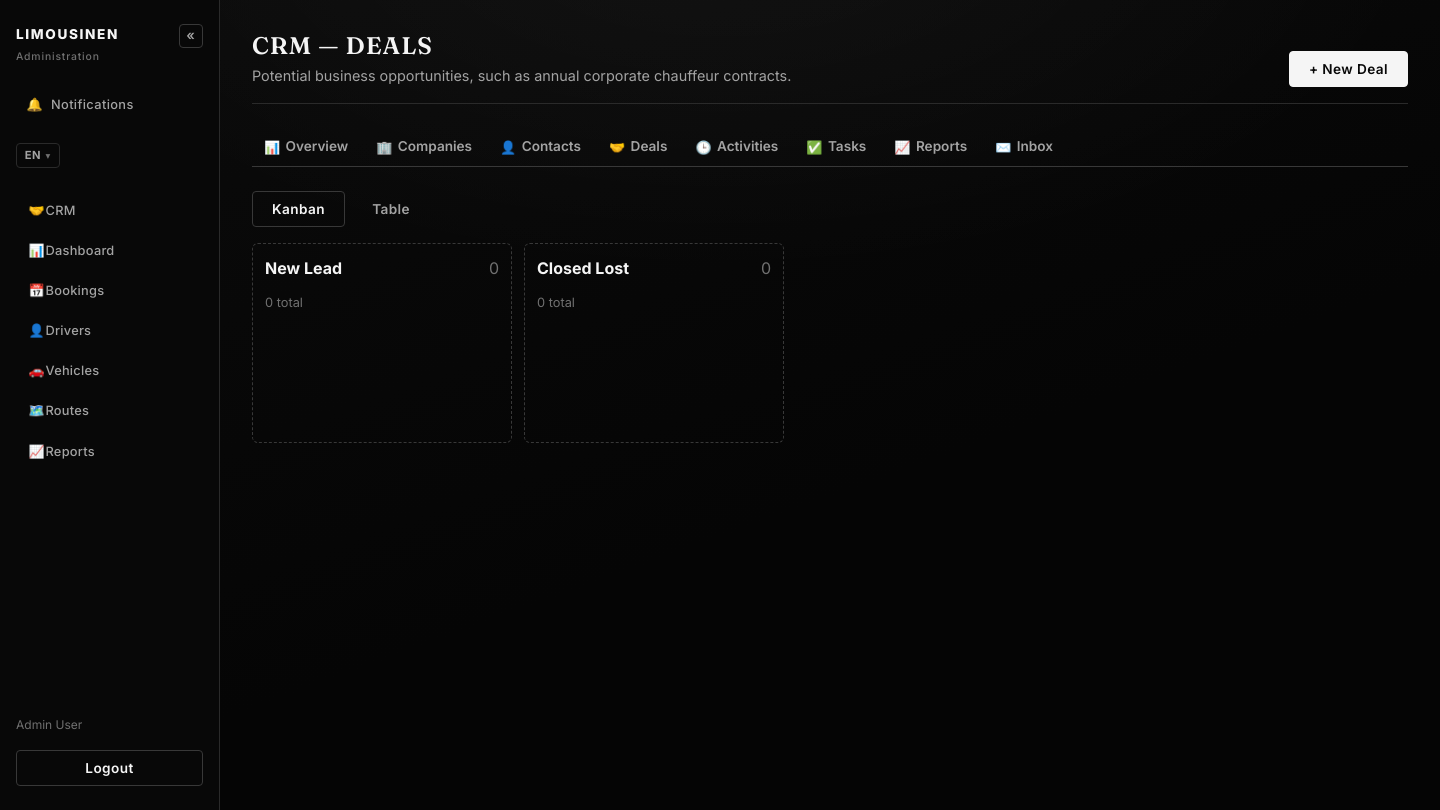
Test: CrmDealsPage › creates a deal
Expected: the text "New Lead" is shown, [265,256,342,281]
Step 1. Click the button "+ New Deal" → (1348, 69), box [1289,52,1408,87]
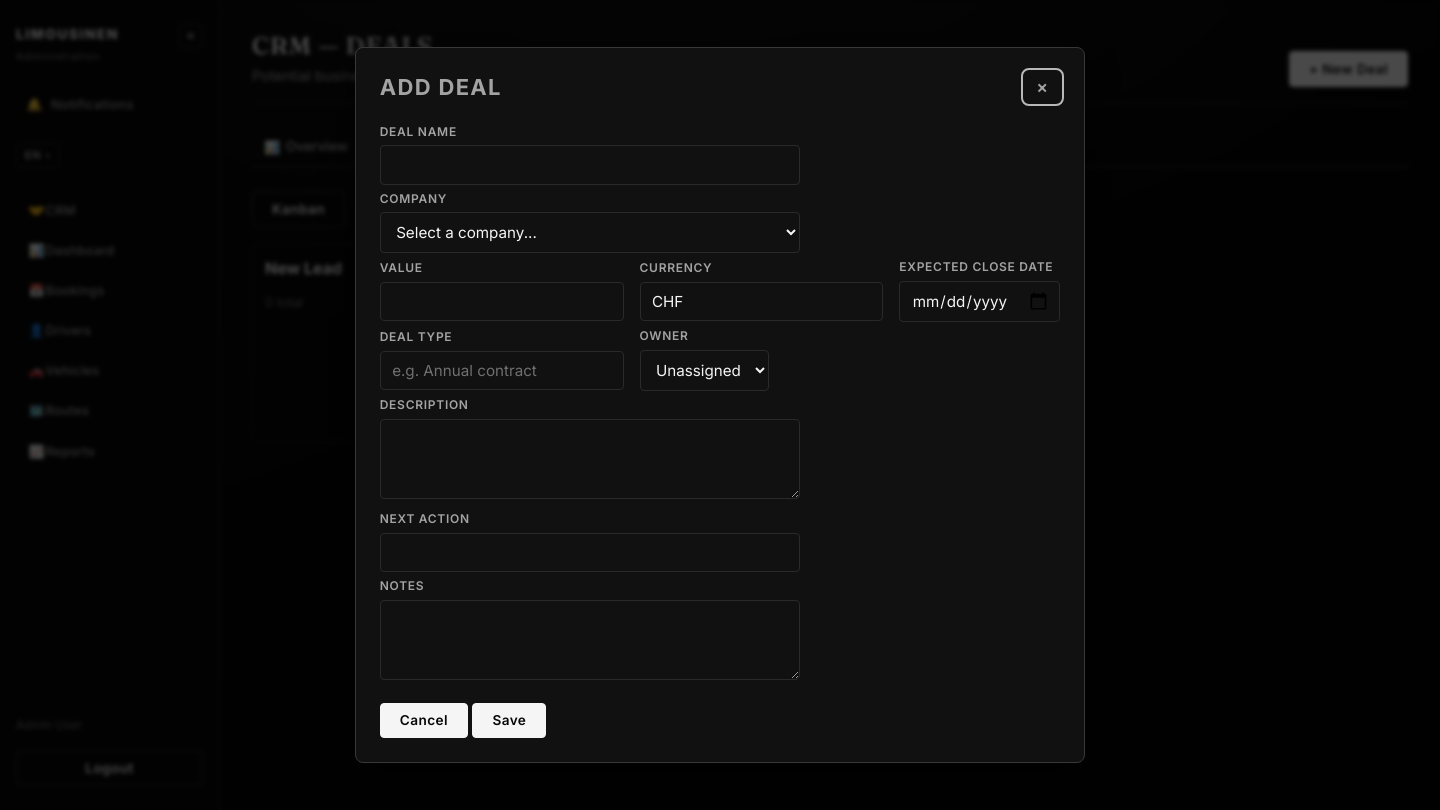
Step 2. Type "Annual chauffeur contract" into the field labelled "Deal name" → (590, 165), box [380,145,800,185]
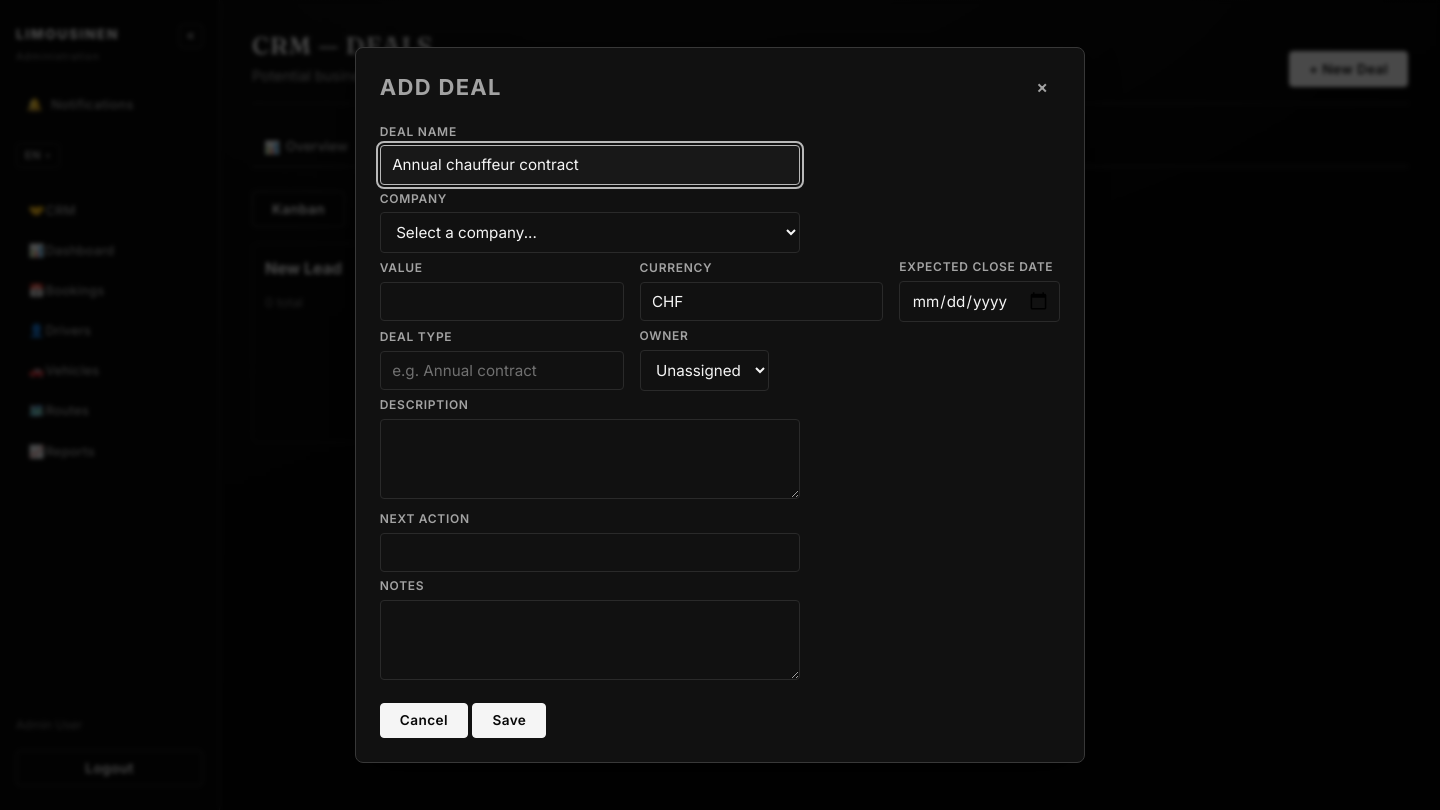
Step 3. Select "Grand Hotel Zurich" in the dropdown labelled "Company" → (590, 233), box [380,212,800,253]
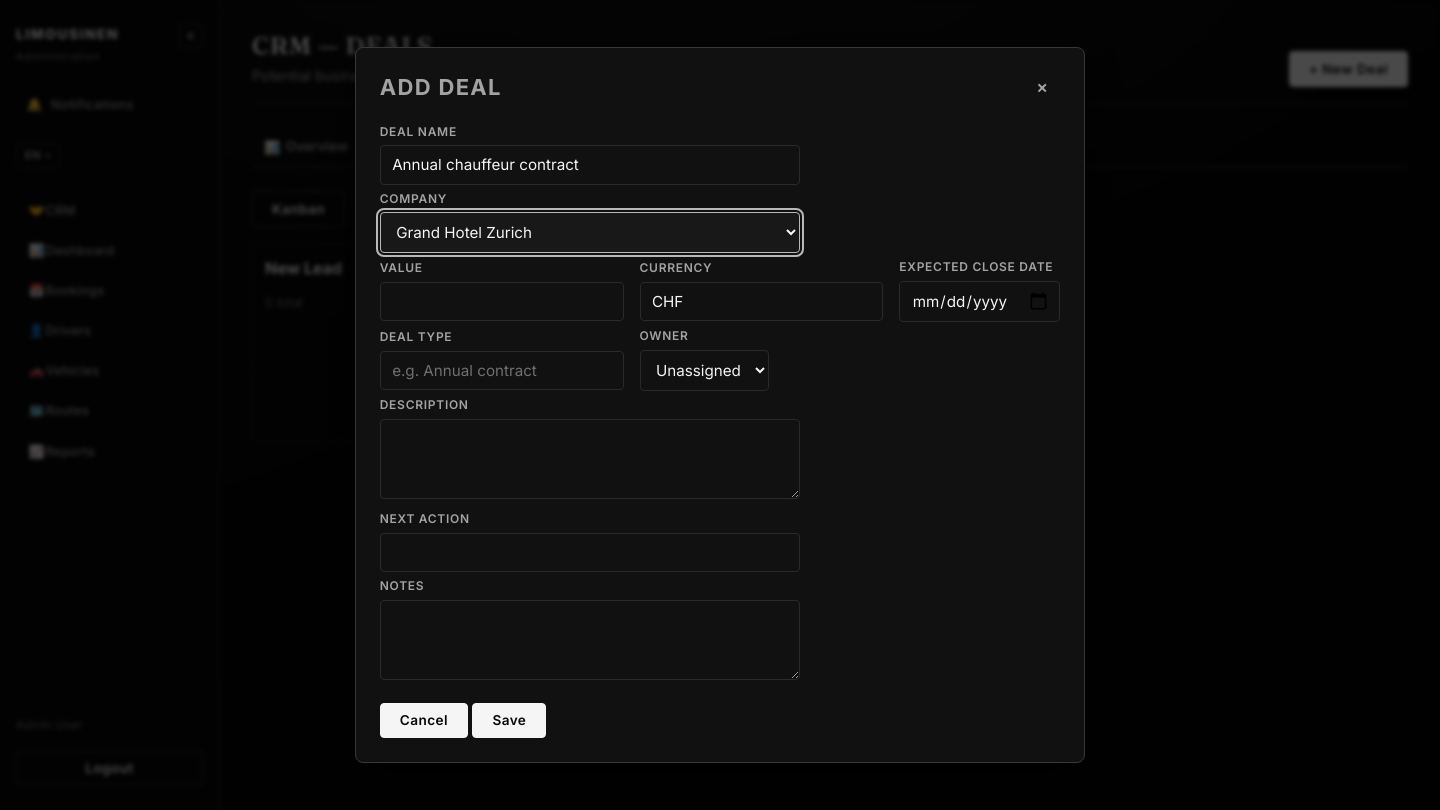
Step 4. Type "50000" into the number field labelled "Value" → (502, 302), box [380,282,624,321]
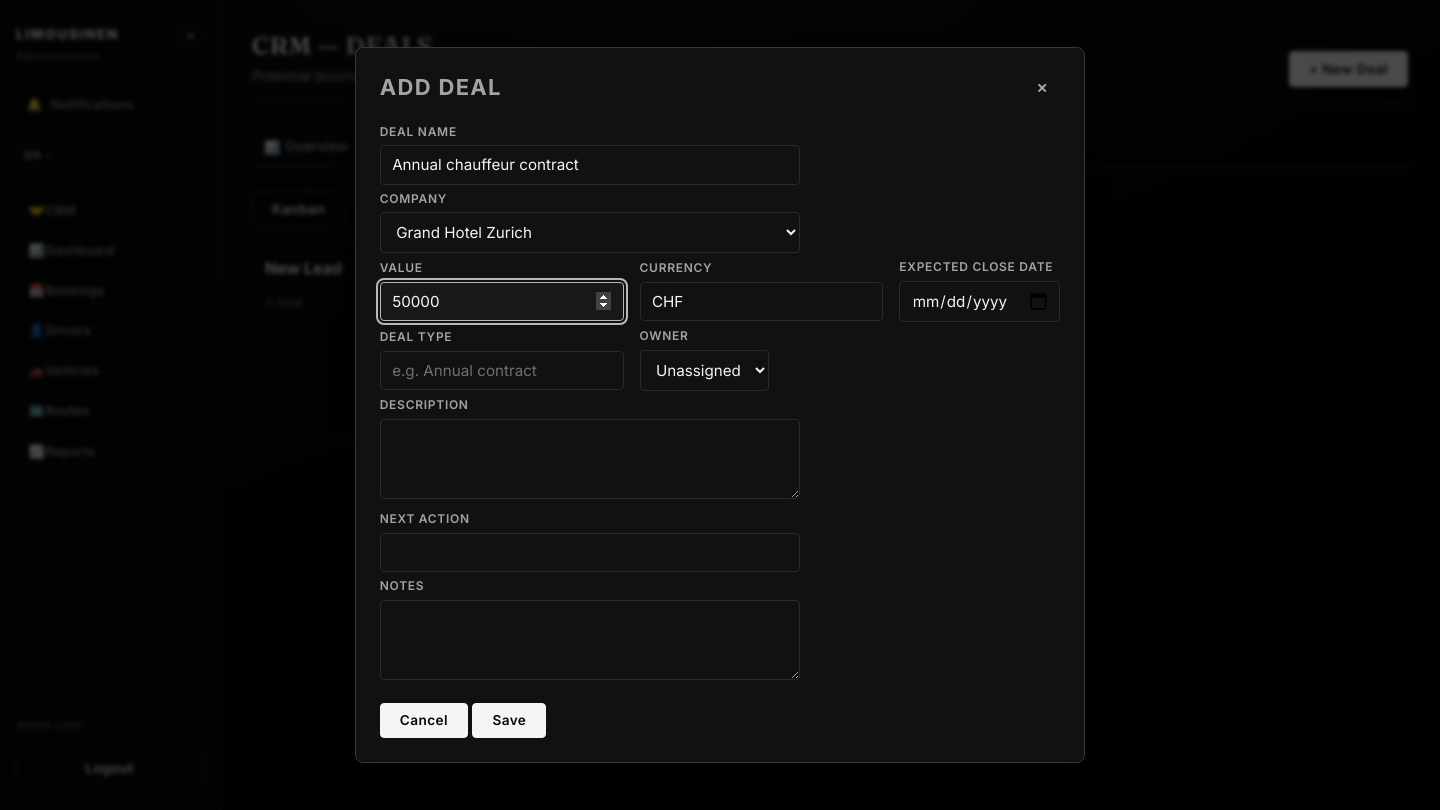
Step 5. Click the button "Save" → (509, 720), box [472,703,546,738]
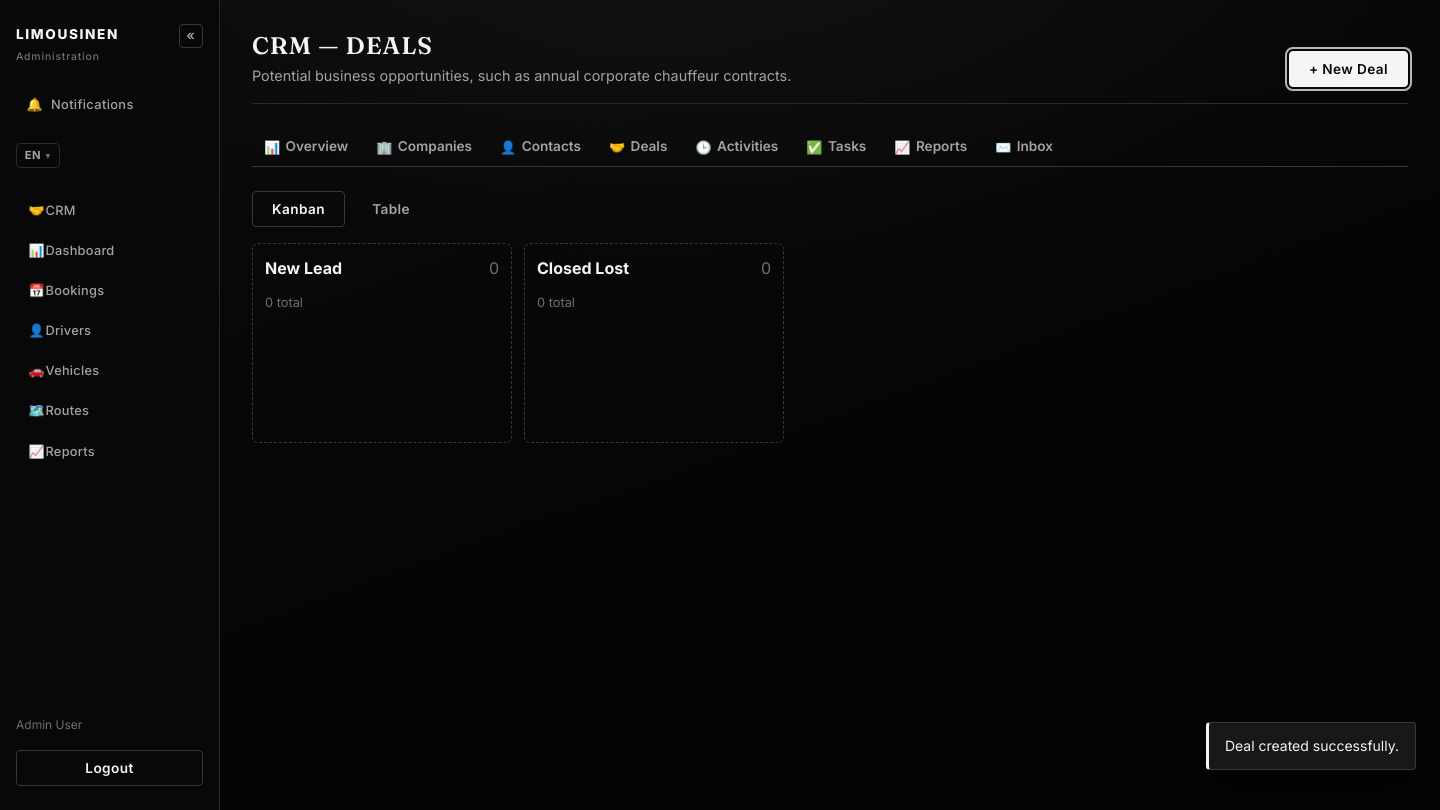
Result: the text "Deal created successfully." is shown at [1206,722,1416,770]
